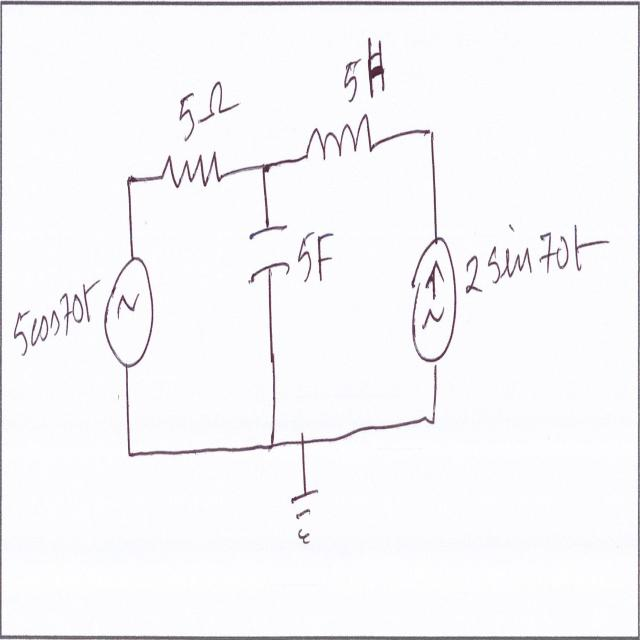ac_current: (100, 253, 160, 374)
capacitor: (245, 216, 294, 290)
current_source: (405, 233, 461, 373)
ground: (291, 478, 322, 558)
inductor: (306, 109, 374, 170)
resistor: (158, 150, 224, 198)
